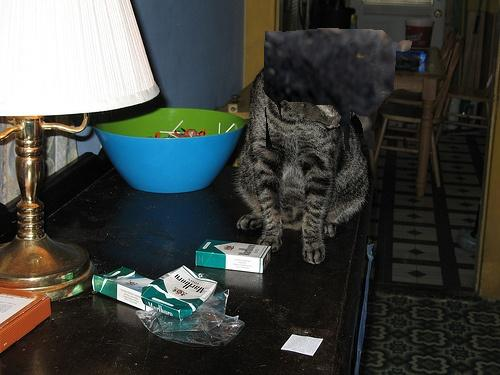tampered: (264, 29, 412, 159)
